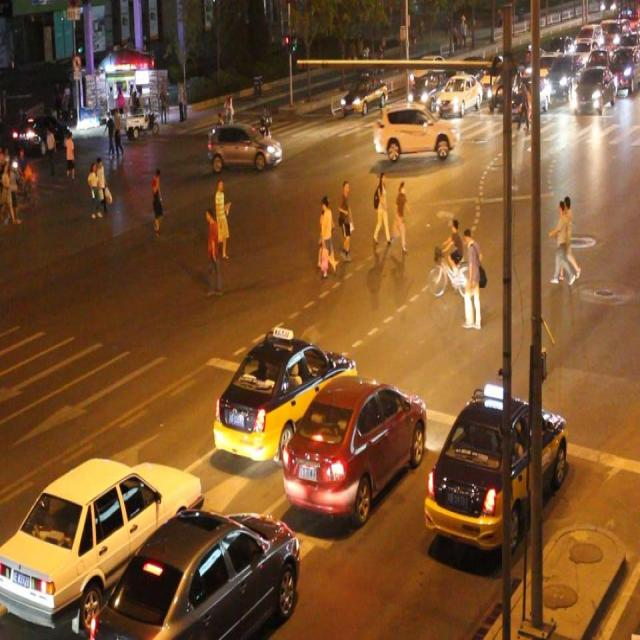car: (1, 451, 200, 630), (100, 512, 302, 640), (425, 390, 564, 547), (280, 378, 424, 519), (212, 337, 353, 452), (371, 106, 455, 162), (207, 123, 280, 171), (435, 73, 480, 114), (341, 75, 386, 115), (405, 72, 444, 108)
